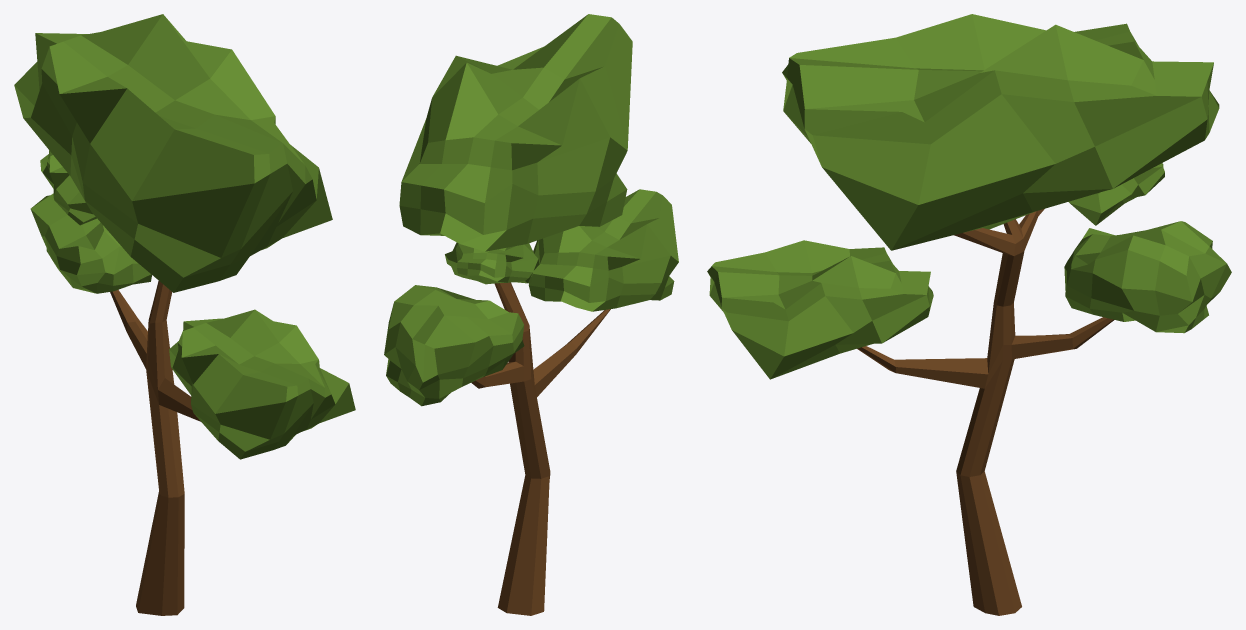
File: chicken tree.fbx
3 views of the same model, side by side, from view 1: azimuth 30°, elevation 25°; view 2: azimuth 150°, elevation 25°; view 3: azimuth 270°, elevation 25° (orthographic). The views are drawn at different scales.
Visible parts, largest first — view 1: idk.003, idk, Cube, Cube.001, idk.002; view 2: idk.003, idk, Cube.001, Cube, idk.002; view 3: idk.003, idk, Cube, Cube.001, idk.002.
Boxes of the visible parts, bbox=[...] form: idk.003: bbox=[14, 14, 332, 292]; idk: bbox=[169, 309, 355, 459]; Cube: bbox=[110, 281, 200, 615]; Cube.001: bbox=[30, 193, 151, 293]; idk.002: bbox=[40, 150, 96, 225]; idk.003: bbox=[399, 14, 632, 251]; idk: bbox=[528, 189, 678, 311]; Cube.001: bbox=[384, 285, 524, 406]; Cube: bbox=[471, 282, 610, 615]; idk.002: bbox=[445, 242, 539, 284]; idk.003: bbox=[782, 14, 1219, 250]; idk: bbox=[707, 240, 933, 379]; Cube: bbox=[857, 208, 1114, 615]; Cube.001: bbox=[1064, 221, 1231, 333]; idk.002: bbox=[1068, 163, 1164, 225].
Bounding box in the file's own units: 2335 × 6287 × 5027.
